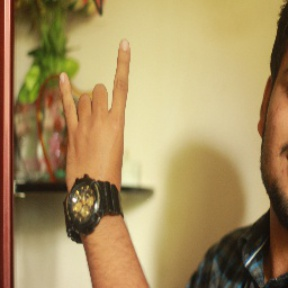V: (56, 32, 136, 179)
